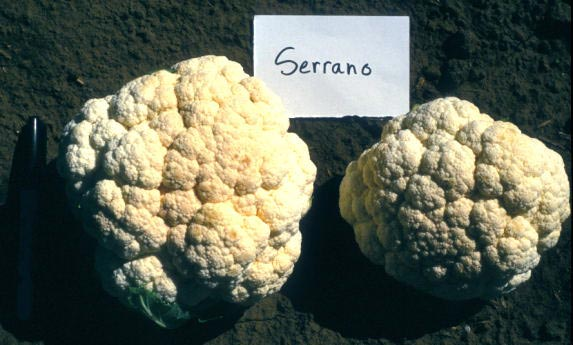cauliflower: (59, 55, 315, 334), (341, 92, 570, 301)
